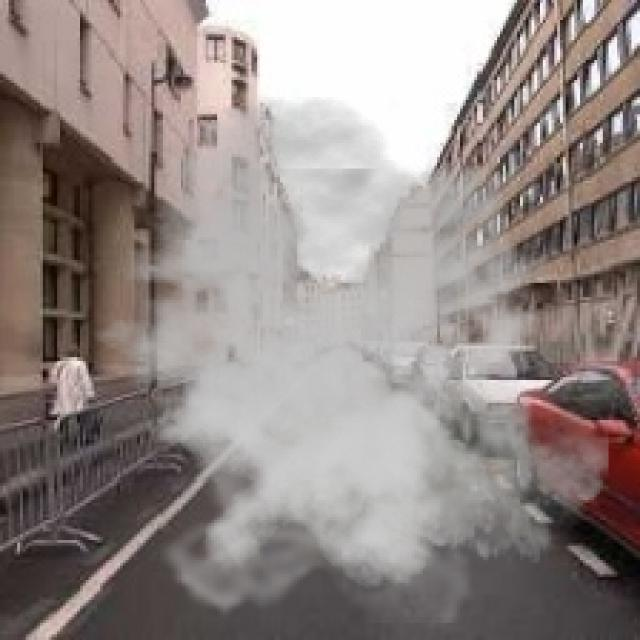Smoke: (71, 94, 608, 623)
